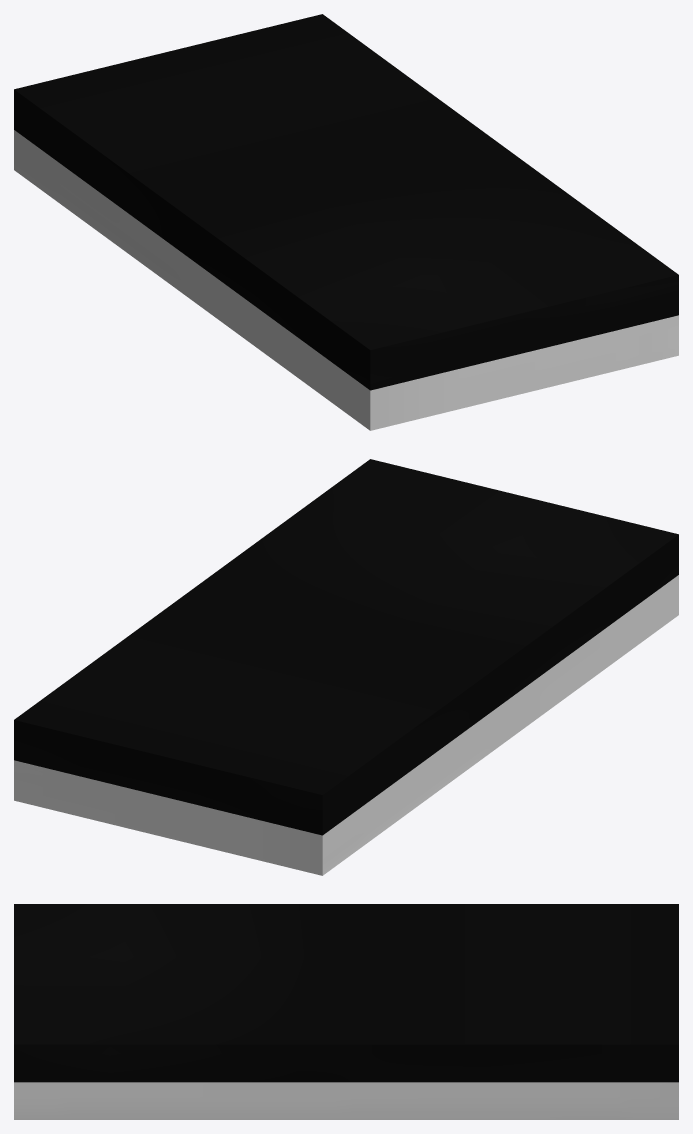
The model's file is domino.obj.
The picture shows the model from 3 angles, top to bottom: view 1: azimuth 30°, elevation 25°; view 2: azimuth 150°, elevation 25°; view 3: azimuth 270°, elevation 25°; orthographic projection. The views are drawn at different scales.
Visible parts, largest first — view 1: Cube_Cube.001; view 2: Cube_Cube.001; view 3: Cube_Cube.001.
Part boxes in pixels (<box>): Cube_Cube.001: <box>14,14,678,430</box>; Cube_Cube.001: <box>14,459,678,875</box>; Cube_Cube.001: <box>14,904,678,1119</box>.
Size of the model in its own units: 0.0254 by 0.00635 by 0.0508.
1 material, 1 textured.
